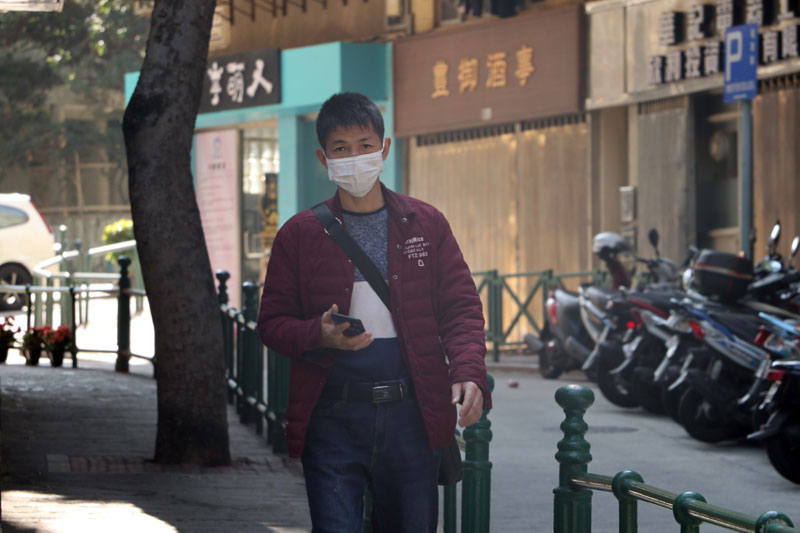with_mask: (310, 101, 395, 203)
